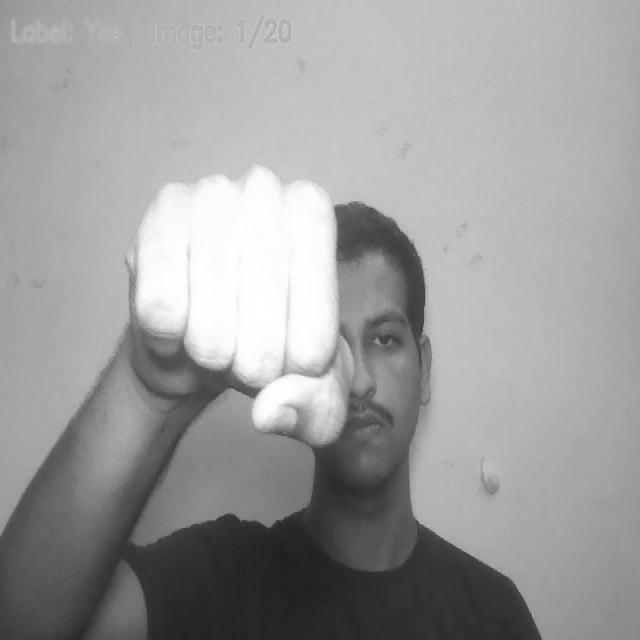Yes: (124, 158, 357, 456)
